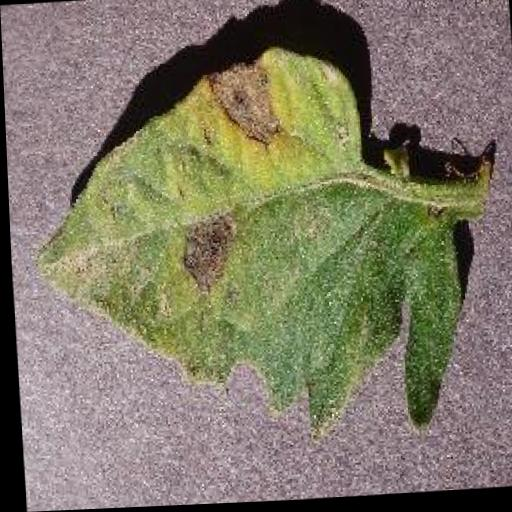Early Blight: (22, 39, 467, 453)
